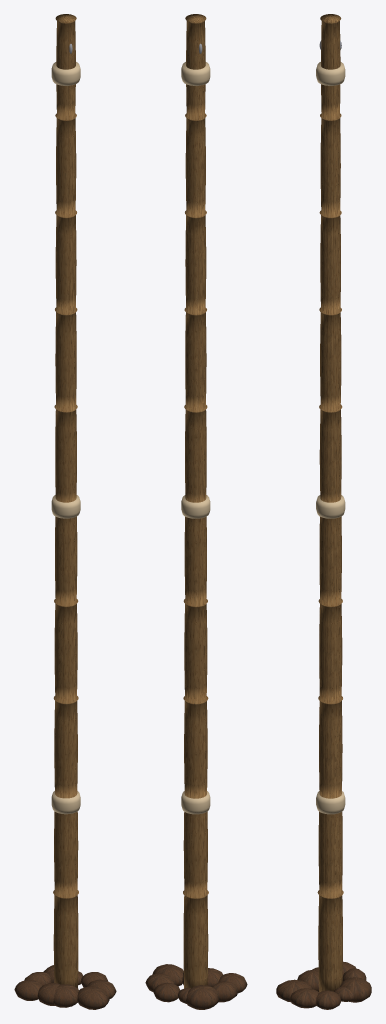
Rendered from bamboo_pole.glb.
3 renders of one model, left to right at view 1: azimuth 30°, elevation 25°; view 2: azimuth 210°, elevation 25°; view 3: azimuth 270°, elevation 25°, orthographic.
Visible parts, largest first — view 1: bamboo_pole; view 2: bamboo_pole; view 3: bamboo_pole.
Boxes of the visible parts, x1=… form: bamboo_pole: x1=14, y1=14, x2=116, y2=1009; bamboo_pole: x1=145, y1=14, x2=247, y2=1009; bamboo_pole: x1=276, y1=14, x2=371, y2=1009.
Bounding box in the file's own units: 0.4121 × 4.64 × 0.4095.
Materials: 4 (2 with a texture image).
